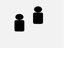human: (31, 3, 44, 26), (12, 12, 26, 32)
